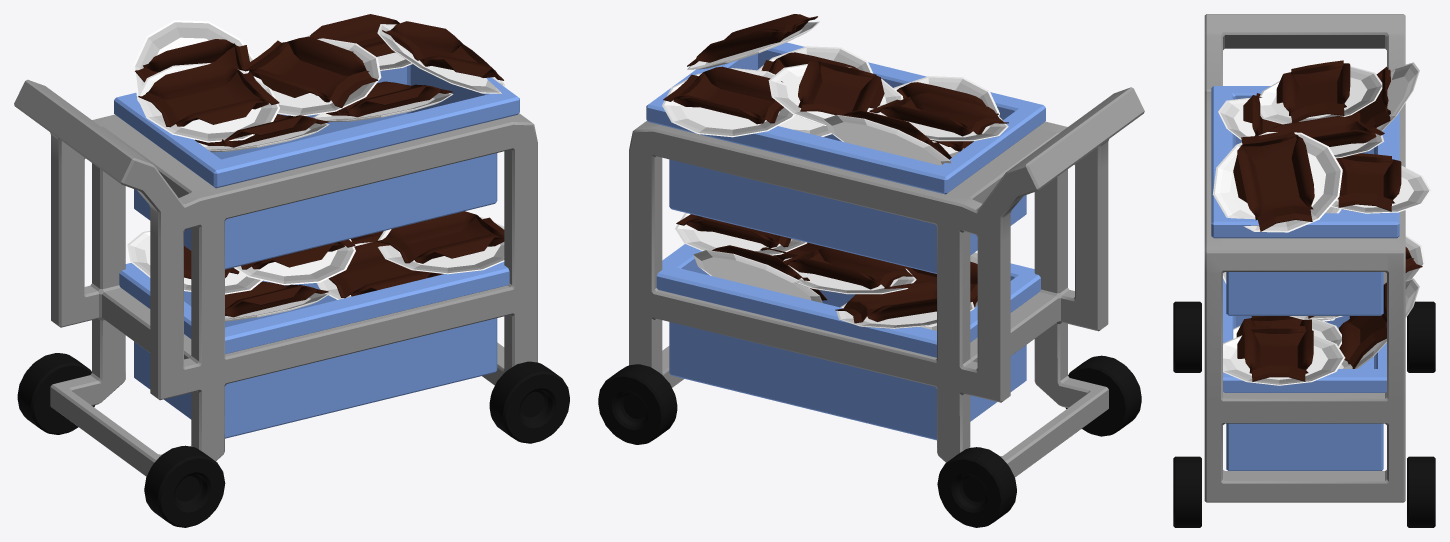
Rendered from Dirty plate dispenser.fbx.
The picture shows the model from 3 angles, left to right: view 1: azimuth 30°, elevation 25°; view 2: azimuth 150°, elevation 25°; view 3: azimuth 270°, elevation 25°; orthographic projection. The views are drawn at different scales.
Parts seen in each view (by area): view 1: Dirty plate dispenser; view 2: Dirty plate dispenser; view 3: Dirty plate dispenser.
Part boxes in pixels (left/top/right/bottom): Dirty plate dispenser: left=14, top=14, right=569, bottom=527; Dirty plate dispenser: left=598, top=14, right=1144, bottom=527; Dirty plate dispenser: left=1173, top=14, right=1435, bottom=527.
Size of the model in its own units: 193 by 165 by 110.
